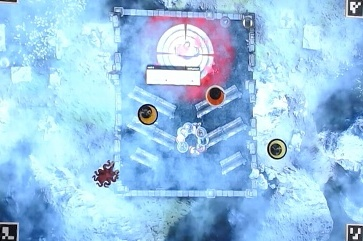giant_red_octopus: (89, 159, 121, 190)
lime_green_violet: (264, 139, 287, 162)
orange: (204, 84, 227, 107)
yellow_night_blue: (136, 103, 159, 126)
